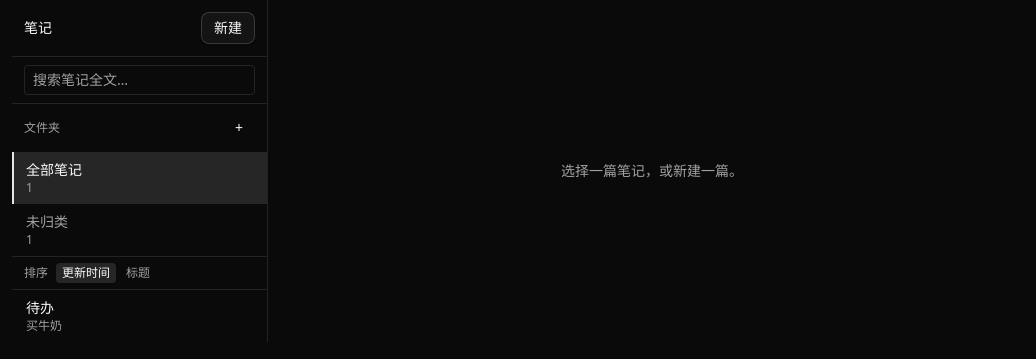
Scenario: NotesView › 渲染笔记标题，并能在选中后载入编辑器
The width and height of the screenshot is (1036, 359).
Click the text "待办".
click(40, 308)  # box [26,298,54,317]
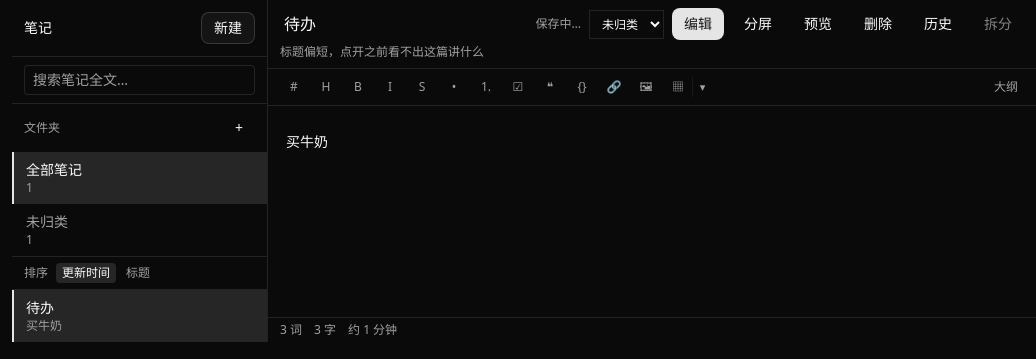
Check: the element named "笔记正文" reads "买牛奶", box [286,132,328,151]
